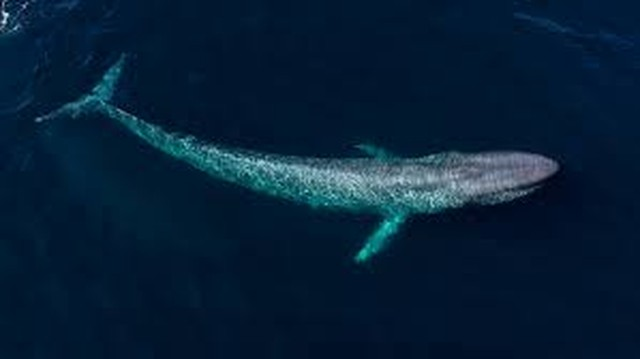whale: (32, 50, 565, 270)
